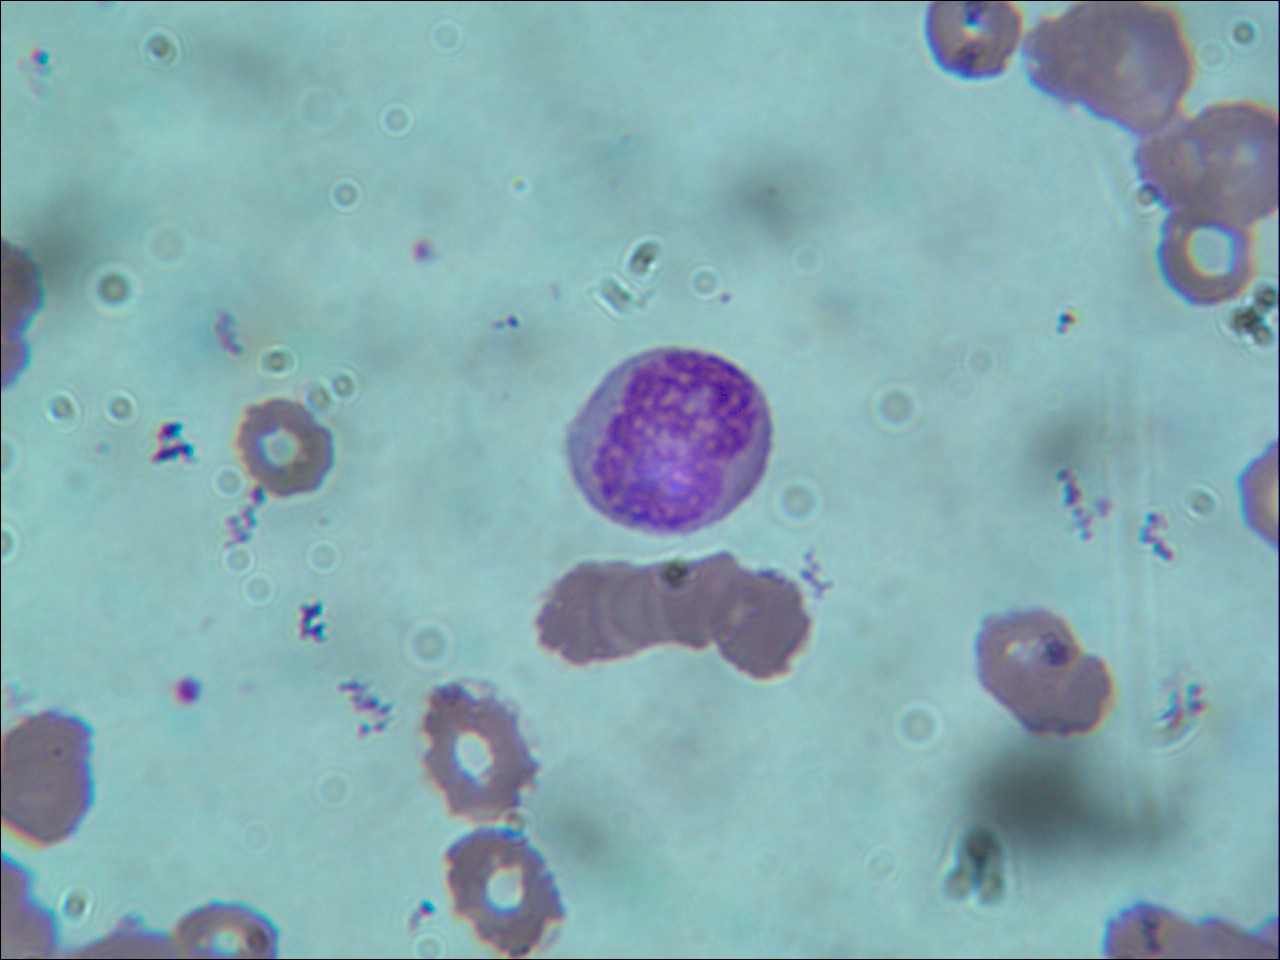Eritrosit: (421, 678, 542, 831), (443, 828, 571, 960), (1, 712, 101, 852), (1086, 3, 1186, 140), (539, 562, 648, 669), (233, 396, 336, 506), (1149, 208, 1259, 309), (1127, 121, 1240, 219), (715, 568, 815, 677), (1190, 103, 1280, 222), (1006, 649, 1115, 742), (1031, 3, 1130, 105), (970, 605, 1073, 702), (655, 550, 749, 656), (586, 564, 687, 649), (924, 1, 1024, 87), (165, 899, 279, 960)
Limfoblast: (562, 346, 779, 537)
Platelet: (159, 677, 205, 711), (406, 234, 443, 268), (404, 889, 436, 924), (1062, 301, 1087, 339), (499, 309, 527, 337), (712, 284, 736, 317)
